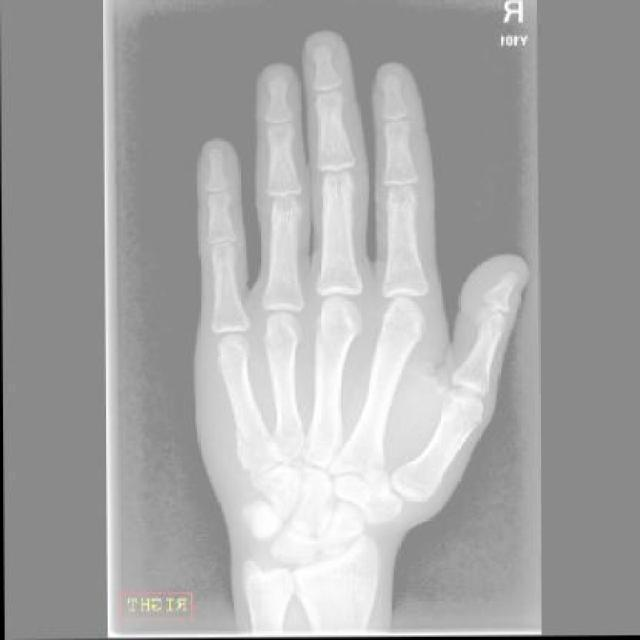Fracture: (229, 422, 273, 464)
